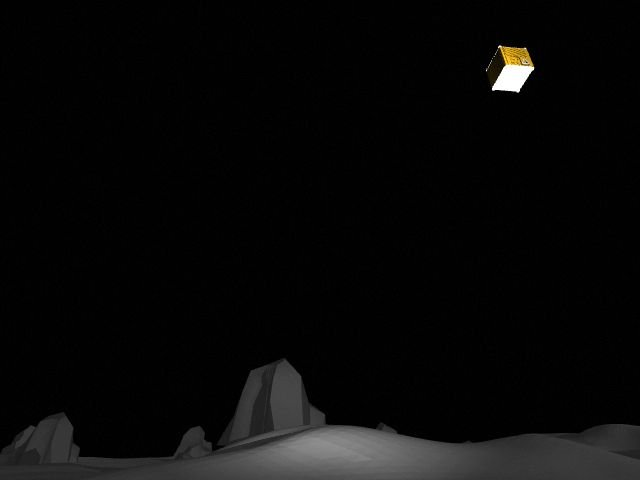cubesat: (481, 40, 537, 100)
